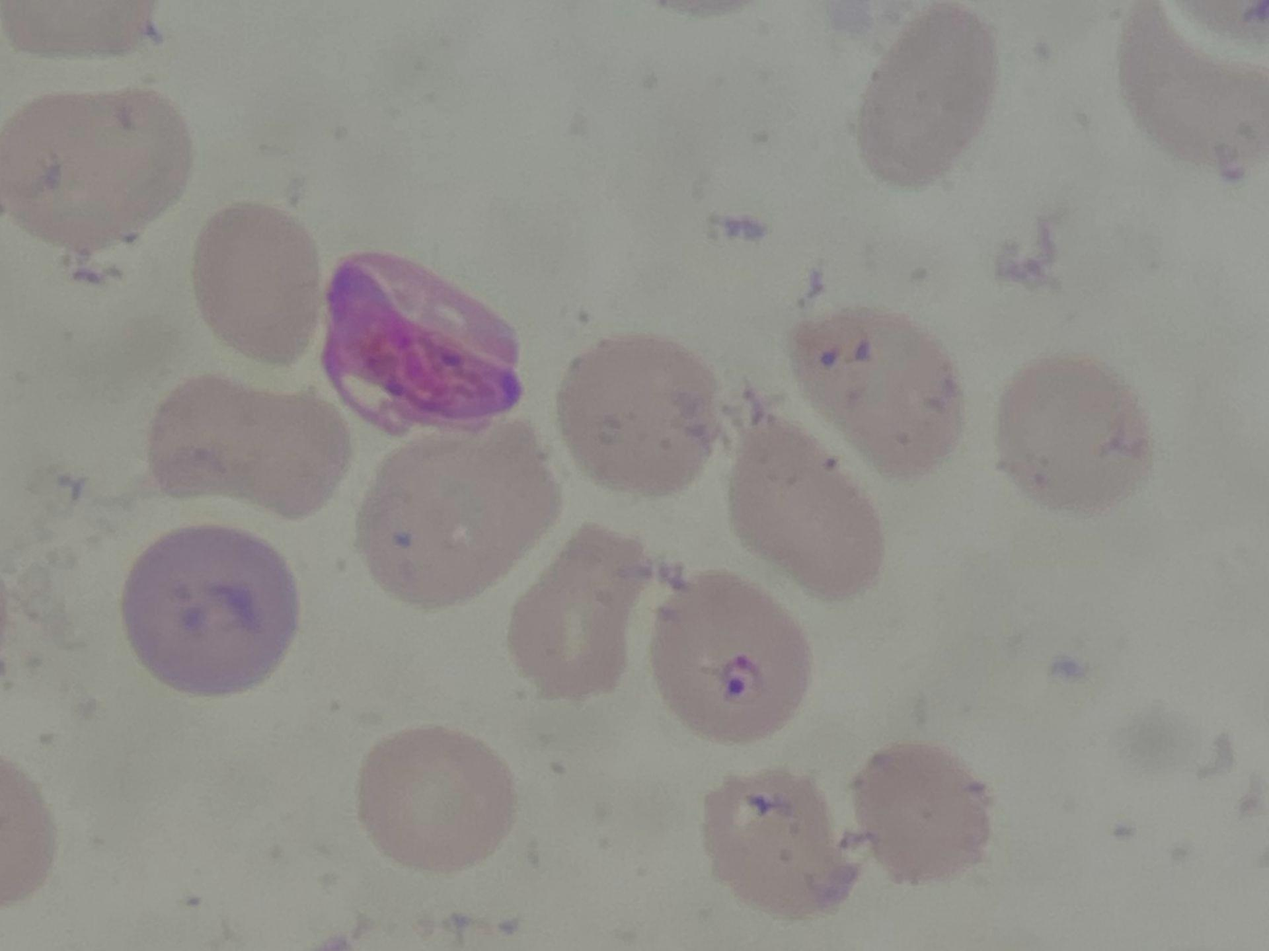Infected: (316, 250, 528, 442), (644, 574, 810, 745)
Uninfected: (357, 423, 562, 608), (782, 308, 964, 477), (0, 86, 194, 244), (124, 527, 299, 697), (149, 375, 347, 523), (730, 423, 885, 605), (555, 336, 718, 501), (854, 5, 993, 189), (1120, 0, 1269, 170), (506, 527, 648, 701), (993, 356, 1148, 512), (704, 767, 853, 921), (358, 729, 514, 873), (192, 202, 322, 363), (859, 742, 984, 882)
